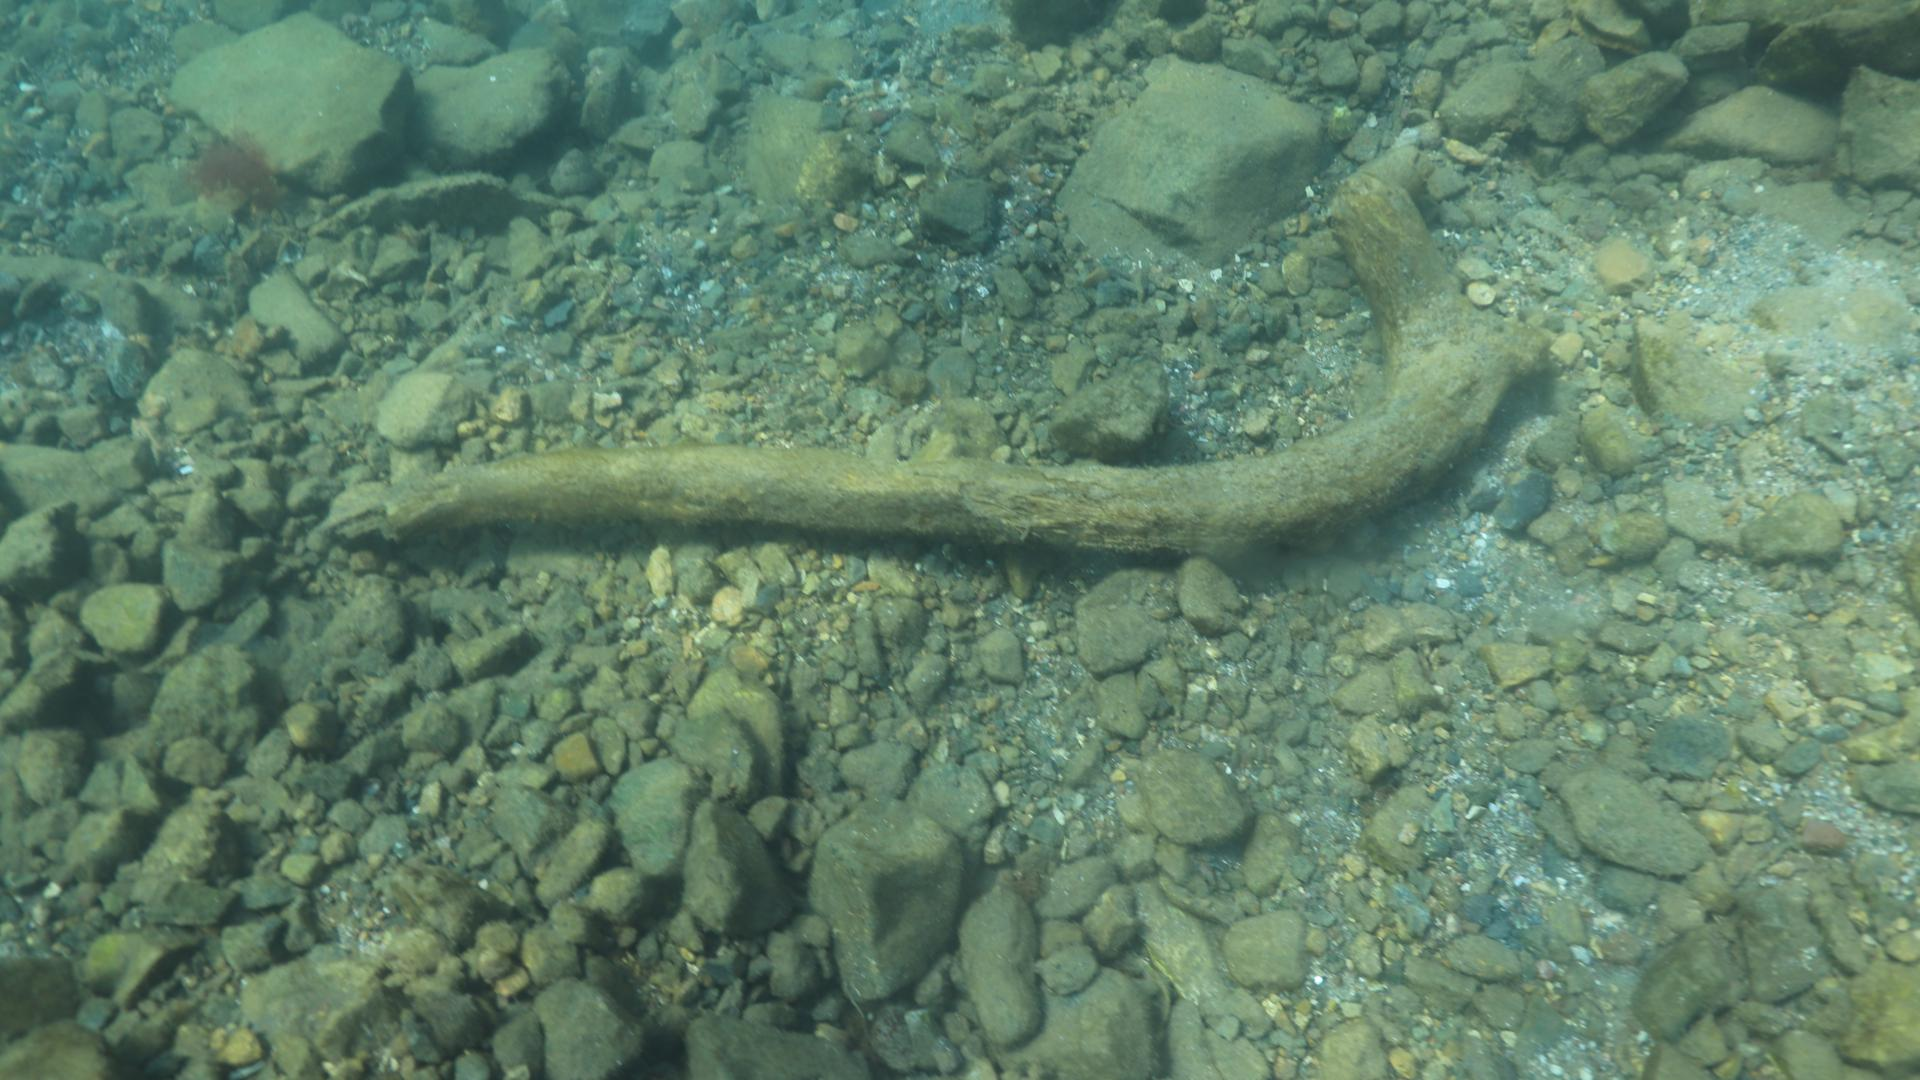wood: (316, 167, 1549, 556)
